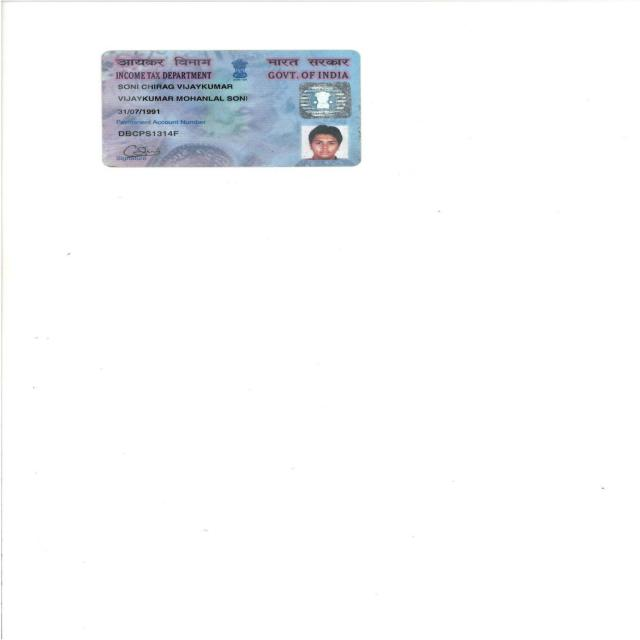pan_card: (100, 52, 360, 165)
